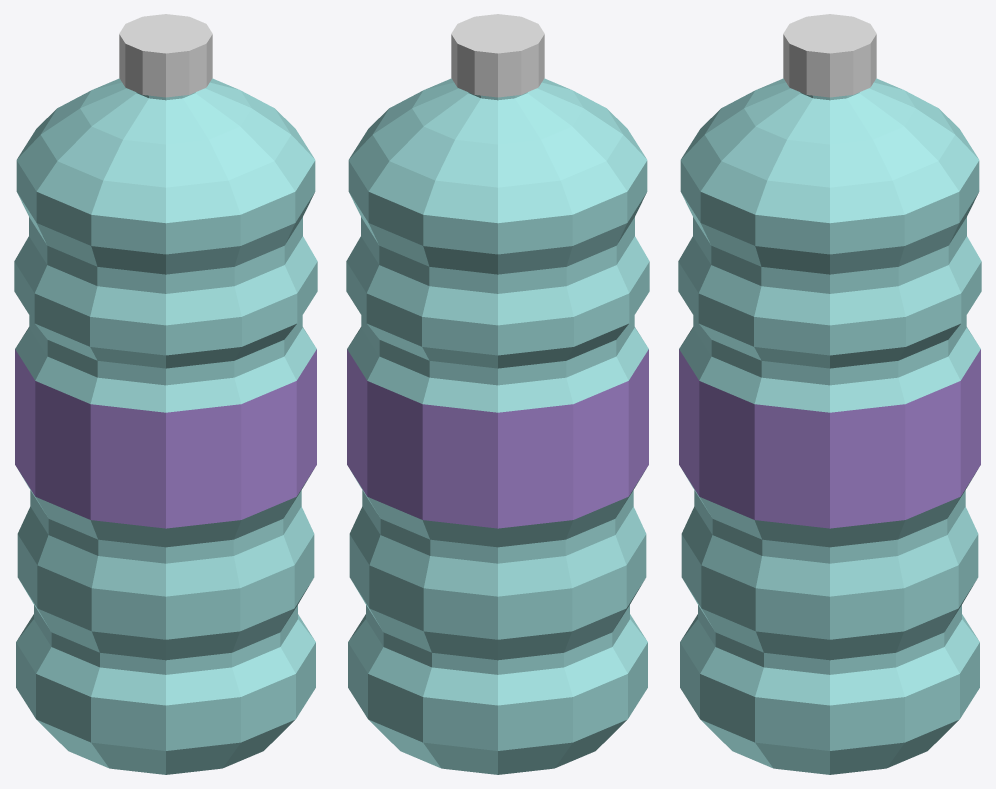
Rendered from SM_Bottle.fbx.
3 renders of one model, left to right at view 1: azimuth 30°, elevation 25°; view 2: azimuth 150°, elevation 25°; view 3: azimuth 270°, elevation 25°, orthographic.
Visible parts, largest first — view 1: Bottle; view 2: Bottle; view 3: Bottle.
Boxes of the visible parts, bbox=[...] form: Bottle: bbox=[14, 14, 317, 774]; Bottle: bbox=[346, 14, 649, 774]; Bottle: bbox=[678, 14, 981, 774].
Bounding box in the file's own units: 17.93 × 45.24 × 17.93.
